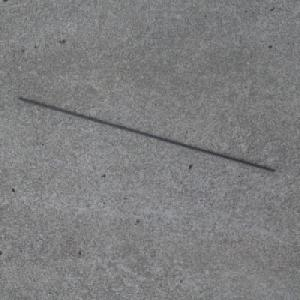LuggagePart: (16, 95, 277, 172)
